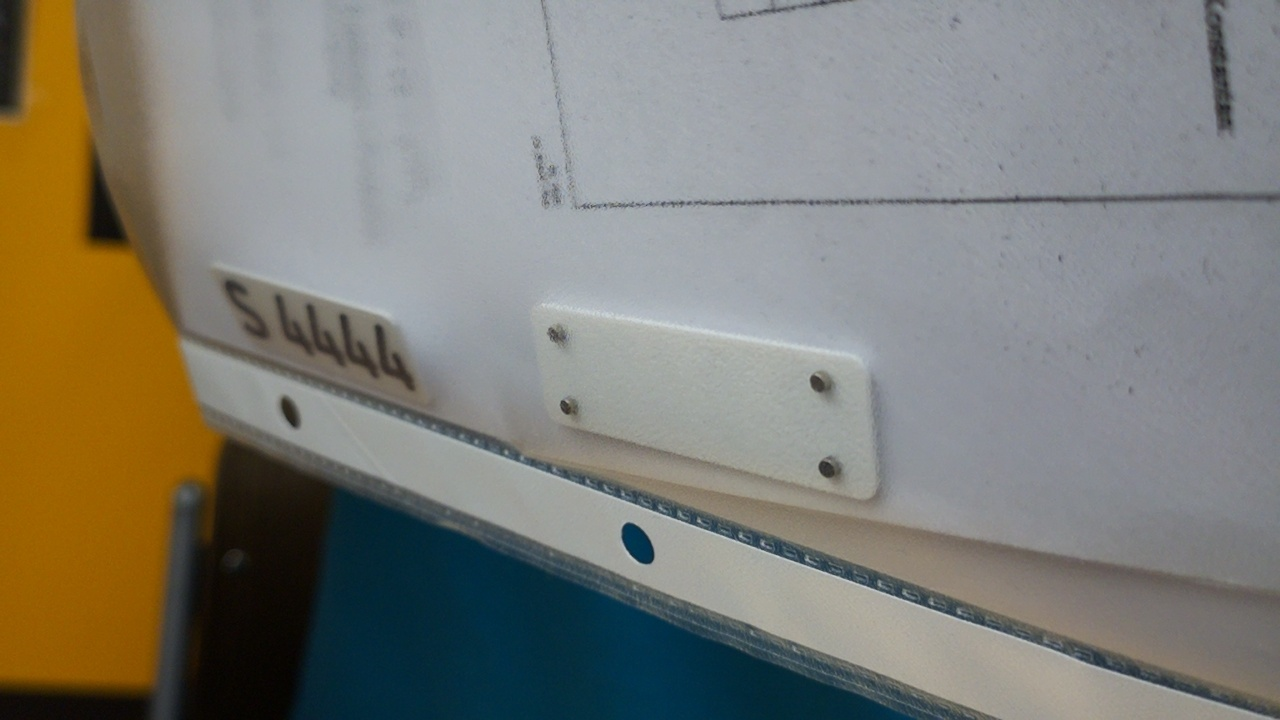license_plate: (524, 286, 890, 512), (207, 258, 436, 412)
